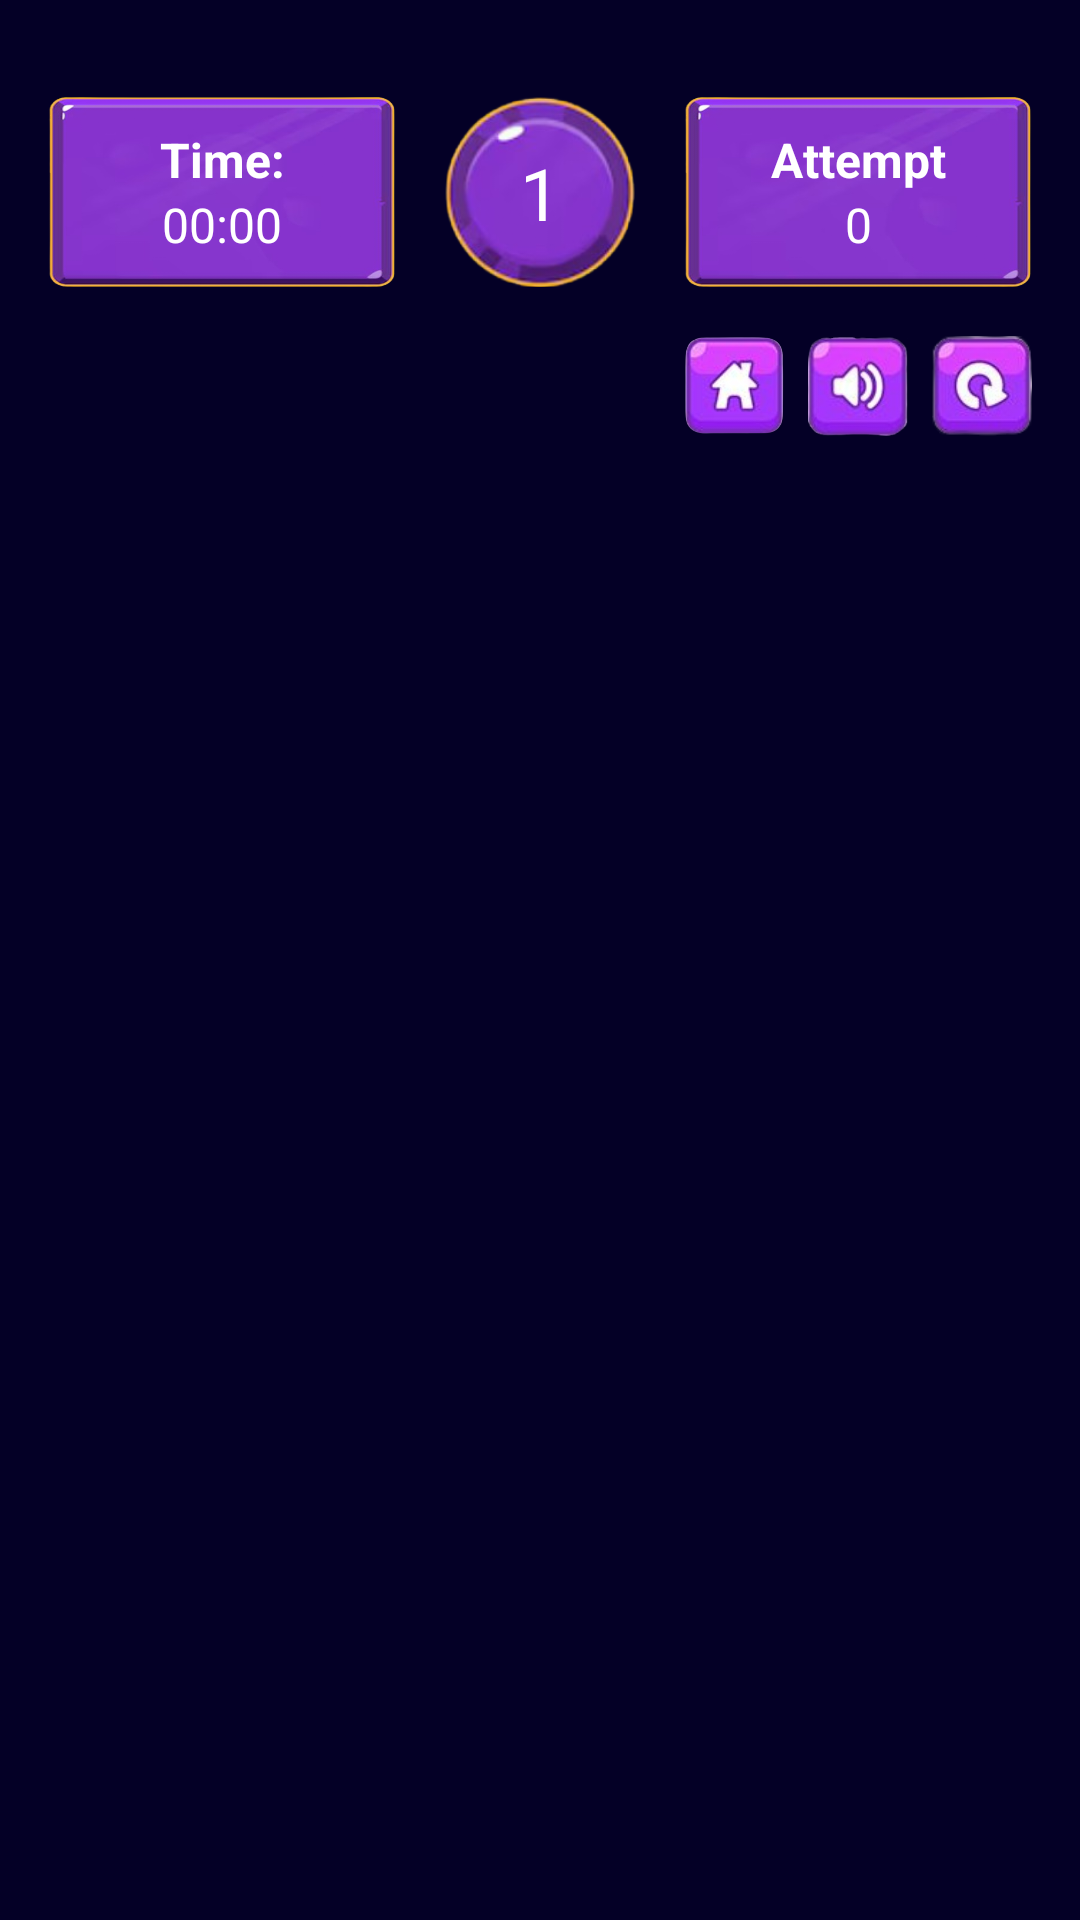

Icon bounding boxes for this 1080 × 1920 phone screenshot, format box=[x1, y1, x2, y2]:
home: box=[685, 337, 783, 434]
media: box=[808, 337, 908, 436]
refresh: box=[932, 336, 1032, 435]
